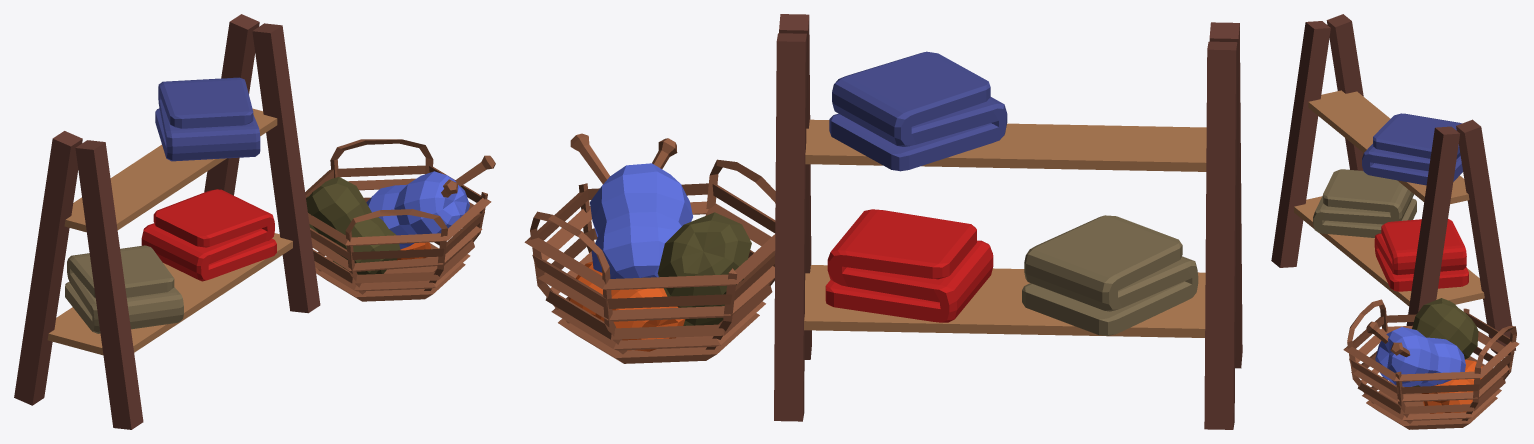
File: banch_with_fabric.fbx
3 renders of one model, left to right at view 1: azimuth 30°, elevation 25°; view 2: azimuth 150°, elevation 25°; view 3: azimuth 270°, elevation 25°, orthographic. The views are drawn at different scales.
Visible parts, largest first — view 1: linen_resources, basket, clew_wool.001; view 2: linen_resources, basket, clew_wool.001; view 3: linen_resources, basket, clew_wool.001.
Boxes of the visible parts, x1,y1,x2,y2 form: linen_resources: (14, 14, 320, 429); basket: (305, 139, 491, 301); clew_wool.001: (306, 155, 495, 274); linen_resources: (774, 14, 1242, 429); basket: (524, 159, 775, 363); clew_wool.001: (568, 133, 751, 351); linen_resources: (1271, 14, 1515, 353); basket: (1343, 299, 1519, 429); clew_wool.001: (1366, 298, 1486, 419).
Size of the model in its own units: 184 by 97.57 by 93.82.
